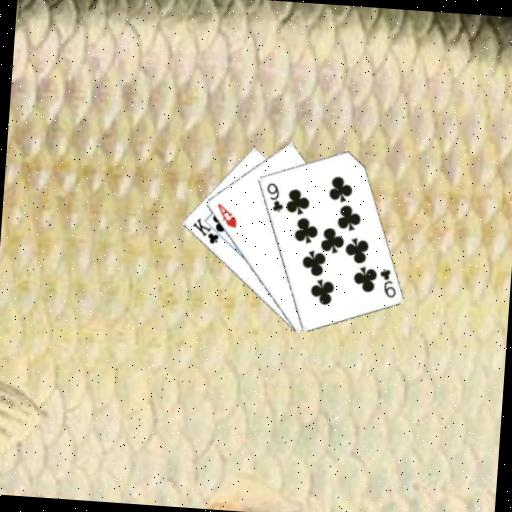9C: (262, 179, 286, 214), (375, 264, 399, 299)
AH: (213, 200, 240, 230)
KC: (188, 214, 227, 246)
